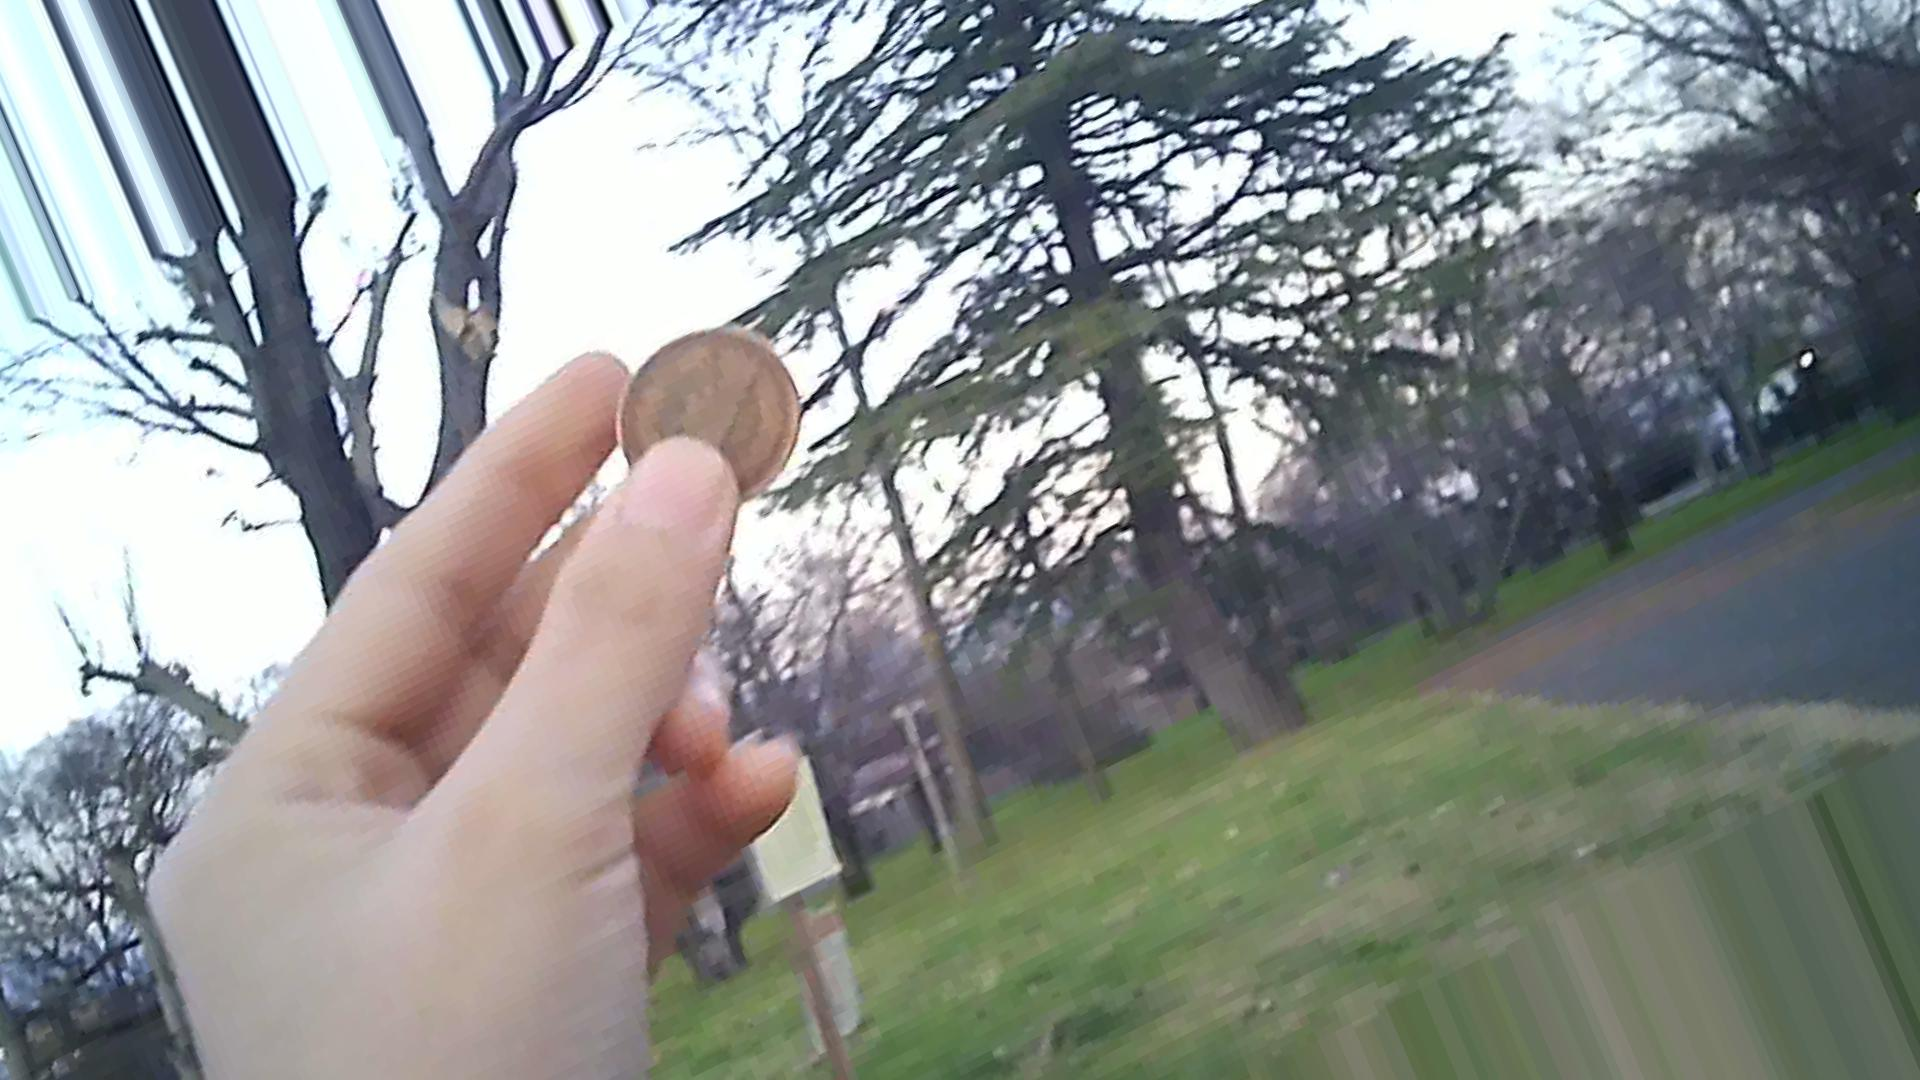10 Yen: (601, 313, 798, 477)
